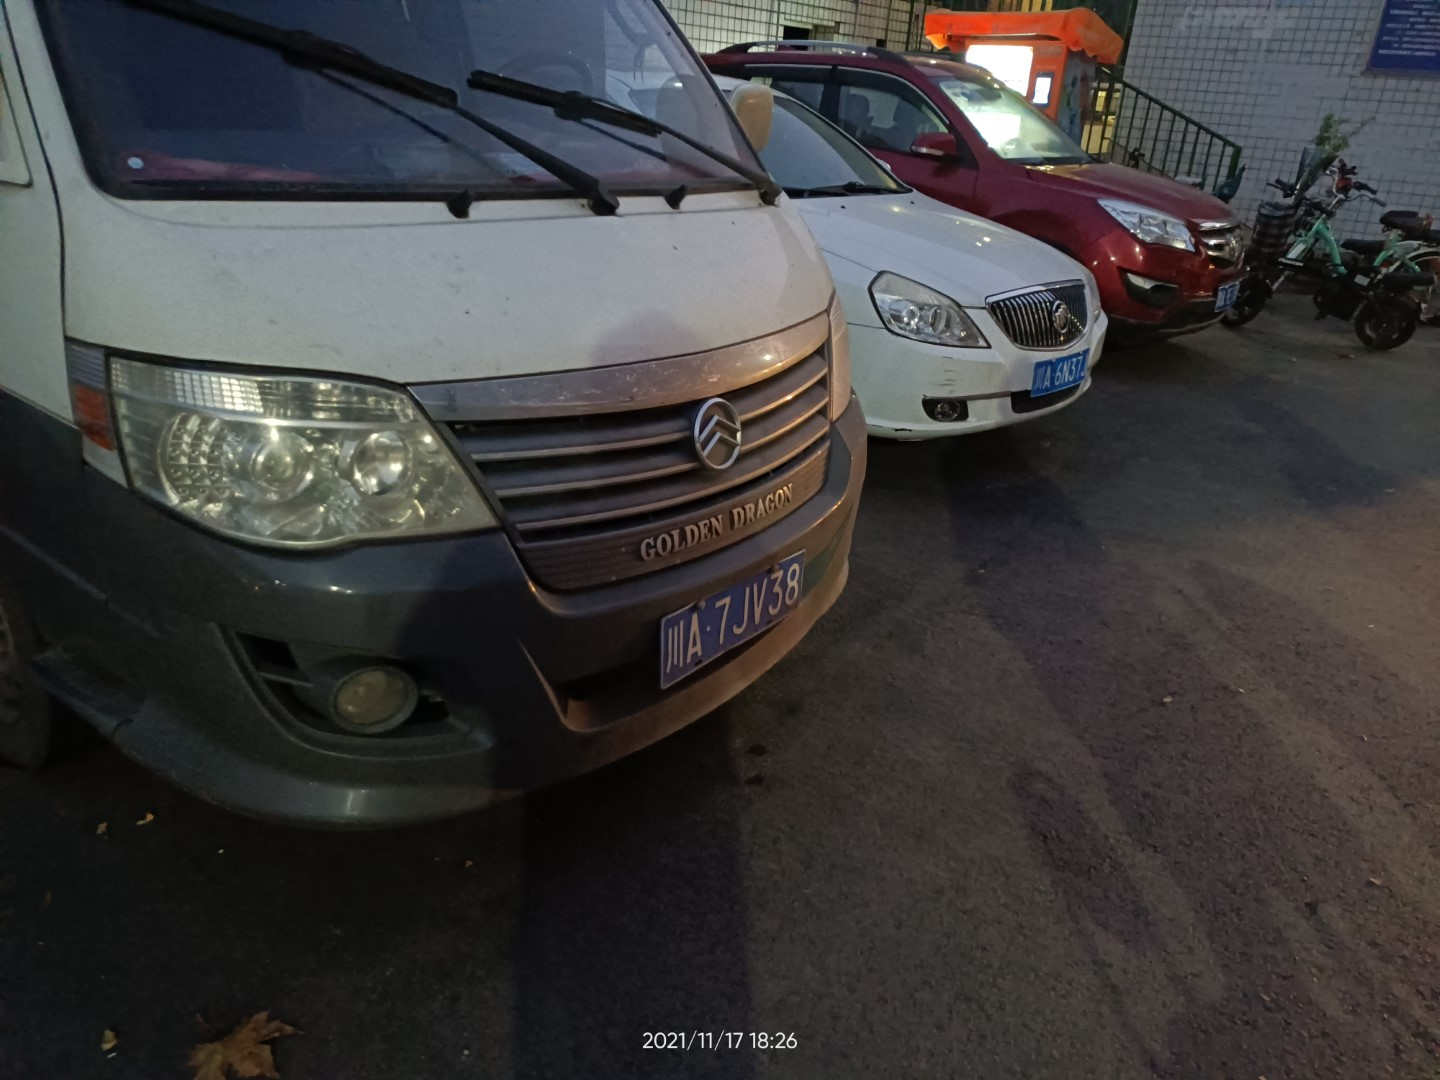plate: (659, 549, 807, 694)
